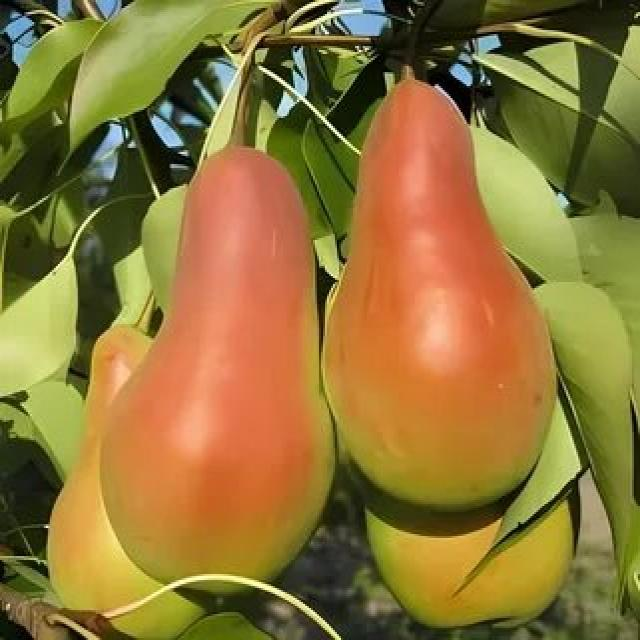pear: (89, 118, 335, 608), (319, 72, 560, 512)
